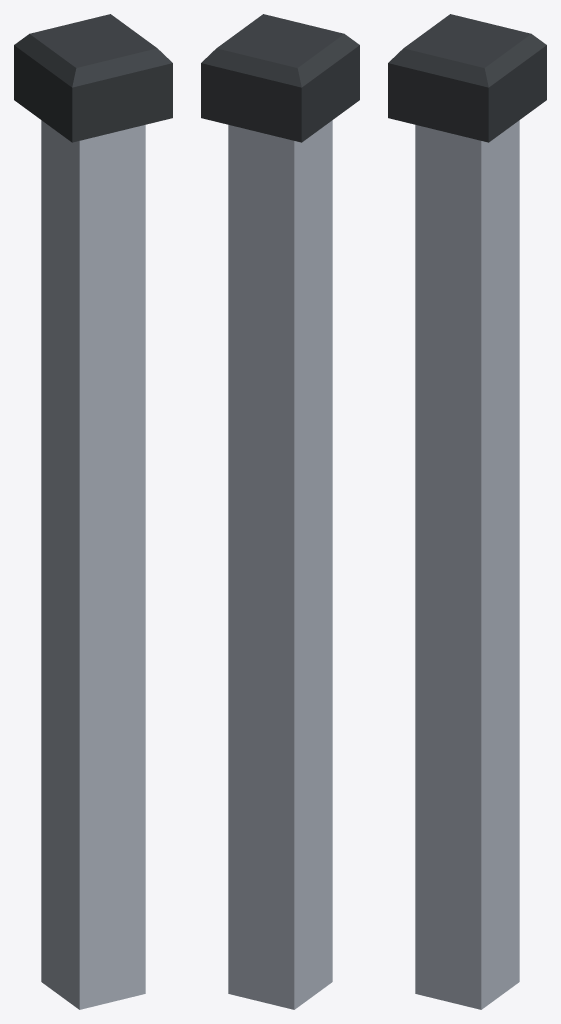
Rendered from StairsPart2_C5.fbx.
The picture shows the model from 3 angles, left to right: view 1: azimuth 30°, elevation 25°; view 2: azimuth 150°, elevation 25°; view 3: azimuth 330°, elevation 25°; orthographic projection.
Visible parts, largest first — view 1: StairsPart2_C5; view 2: StairsPart2_C5; view 3: StairsPart2_C5.
Boxes of the visible parts, x1,y1,x2,y2 form: StairsPart2_C5: (14, 14, 172, 1009); StairsPart2_C5: (201, 14, 359, 1009); StairsPart2_C5: (388, 14, 546, 1009).
Bounding box in the file's own units: 11.02 × 98.99 × 11.02.
